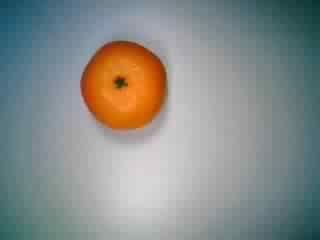orange: (74, 37, 169, 139)
